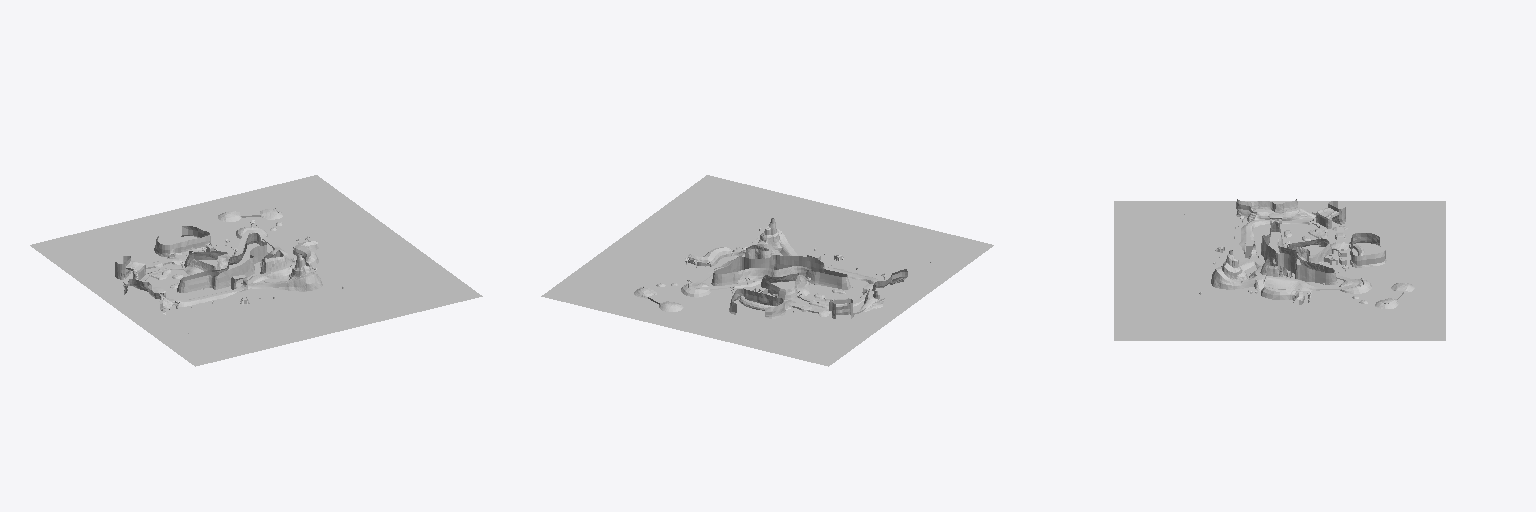
Rendered from resortIsland.obj.
3 views of the same model, side by side, from view 1: azimuth 30°, elevation 25°; view 2: azimuth 150°, elevation 25°; view 3: azimuth 270°, elevation 25° (orthographic).
Parts seen in each view (by area): view 1: resortIsland; view 2: resortIsland; view 3: resortIsland.
Boxes of the visible parts, x1=… form: resortIsland: x1=30, y1=175, x2=482, y2=366; resortIsland: x1=541, y1=175, x2=993, y2=366; resortIsland: x1=1114, y1=199, x2=1445, y2=340.
Size of the model in its own units: 278 by 27.43 by 278.